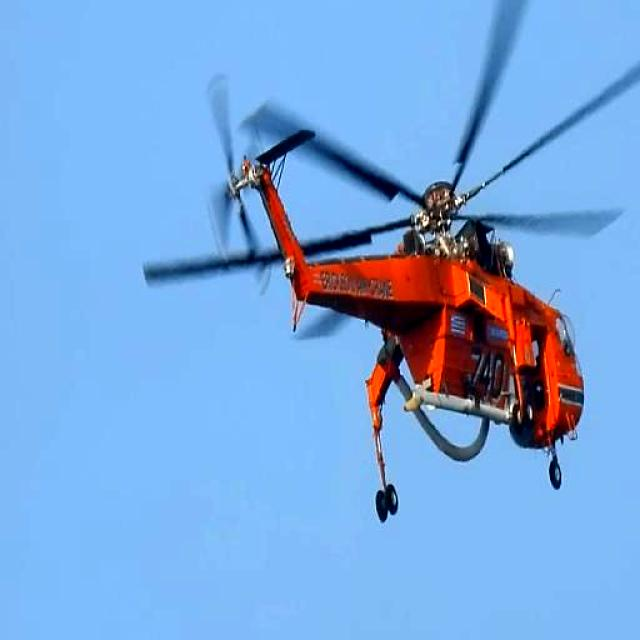drone: (142, 0, 640, 531)
